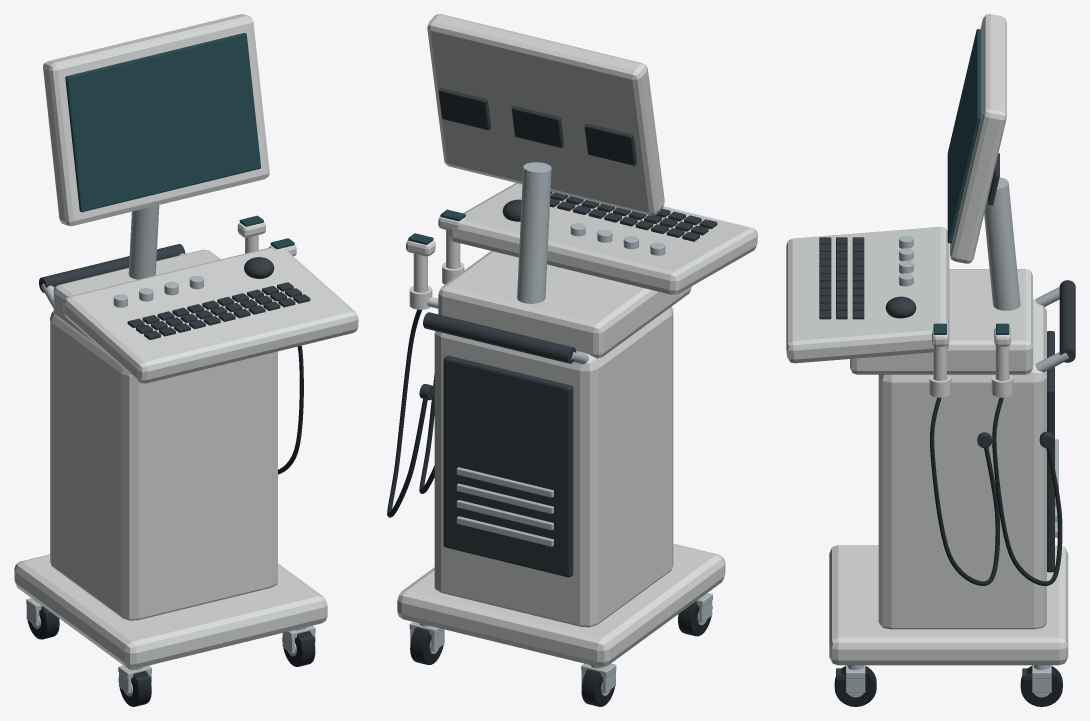
File: city-ultrasound-equipment-cart.glb
3 views of the same model, side by side, from view 1: azimuth 30°, elevation 25°; view 2: azimuth 150°, elevation 25°; view 3: azimuth 270°, elevation 25° (orthographic). The views are drawn at different scales.
Visible parts, largest first — view 1: Assembly | Warm clinical shell, Assembly | Opaque inactive instrument face, Assembly | Dark service trim, Assembly | Brushed support metal, Assembly | Caster and cable rubber; view 2: Assembly | Warm clinical shell, Assembly | Dark service trim, Assembly | Brushed support metal, Assembly | Caster and cable rubber; view 3: Assembly | Warm clinical shell, Assembly | Dark service trim, Assembly | Brushed support metal, Assembly | Caster and cable rubber, Assembly | Opaque inactive instrument face.
Part boxes in pixels (box(x1,y1,x2,y2)): Assembly | Warm clinical shell: box(14, 14, 358, 668); Assembly | Opaque inactive instrument face: box(65, 33, 294, 249); Assembly | Dark service trim: box(39, 244, 315, 685); Assembly | Brushed support metal: box(26, 205, 315, 696); Assembly | Caster and cable rubber: box(27, 345, 315, 706); Assembly | Warm clinical shell: box(397, 14, 757, 666); Assembly | Dark service trim: box(419, 88, 717, 577); Assembly | Brushed support metal: box(409, 162, 712, 695); Assembly | Caster and cable rubber: box(387, 309, 712, 706); Assembly | Warm clinical shell: box(786, 14, 1068, 665); Assembly | Dark service trim: box(819, 153, 1075, 680); Assembly | Brushed support metal: box(846, 177, 1069, 697); Assembly | Caster and cable rubber: box(834, 397, 1062, 706); Assembly | Opaque inactive instrument face: box(933, 29, 1009, 334).
Bounding box in the file's own units: 0.6866 × 1.64 × 0.7158.
